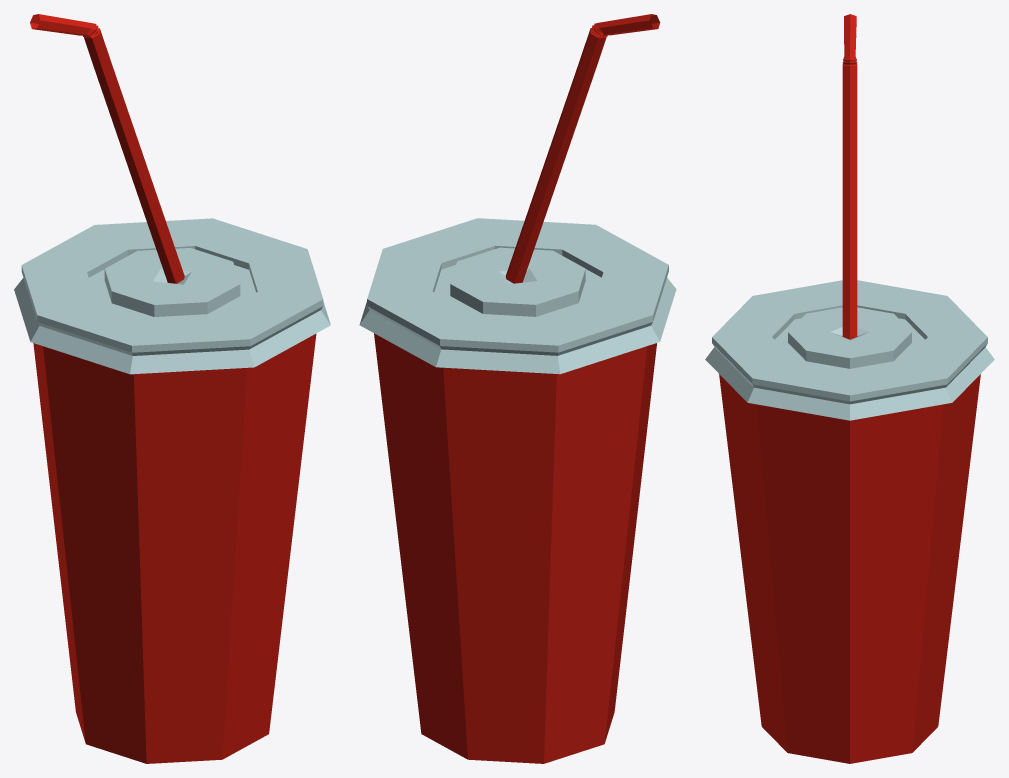
File: Lowpoly_Cup.fbx
3 renders of one model, left to right at view 1: azimuth 30°, elevation 25°; view 2: azimuth 150°, elevation 25°; view 3: azimuth 270°, elevation 25°, orthographic. The views are drawn at different scales.
Parts seen in each view (by area): view 1: Cup, Cap, Tube; view 2: Cup, Cap, Tube; view 3: Cup, Cap, Tube.
Part boxes in pixels (left/top/right/bottom): Cup: left=33, top=334, right=316, bottom=763; Cap: left=14, top=218, right=330, bottom=374; Tube: left=30, top=14, right=184, bottom=283; Cup: left=374, top=333, right=656, bottom=763; Cap: left=359, top=218, right=676, bottom=374; Tube: left=506, top=14, right=660, bottom=283; Cup: left=719, top=374, right=980, bottom=763; Cap: left=705, top=280, right=994, bottom=420; Tube: left=842, top=14, right=857, bottom=339.
Size of the model in its own units: 809 by 2018 by 809.
